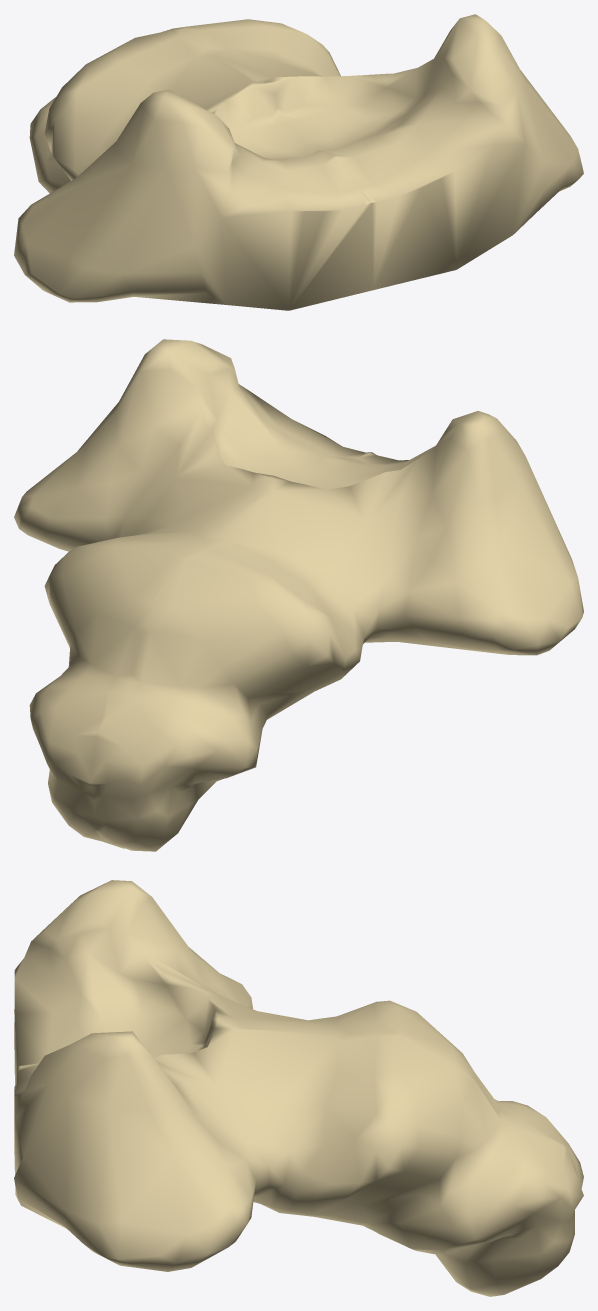
3 renders of one model, top to bottom at view 1: azimuth 30°, elevation 25°; view 2: azimuth 150°, elevation 25°; view 3: azimuth 270°, elevation 25°, orthographic.
Parts seen in each view (by area): view 1: 尾骨; view 2: 尾骨; view 3: 尾骨.
Boxes of the visible parts, x1,y1,x2,y2 form: 尾骨: [14, 14, 583, 310]; 尾骨: [14, 339, 583, 851]; 尾骨: [14, 880, 583, 1296].
Size of the model in its own units: 0.0494 by 0.0291 by 0.0454.
